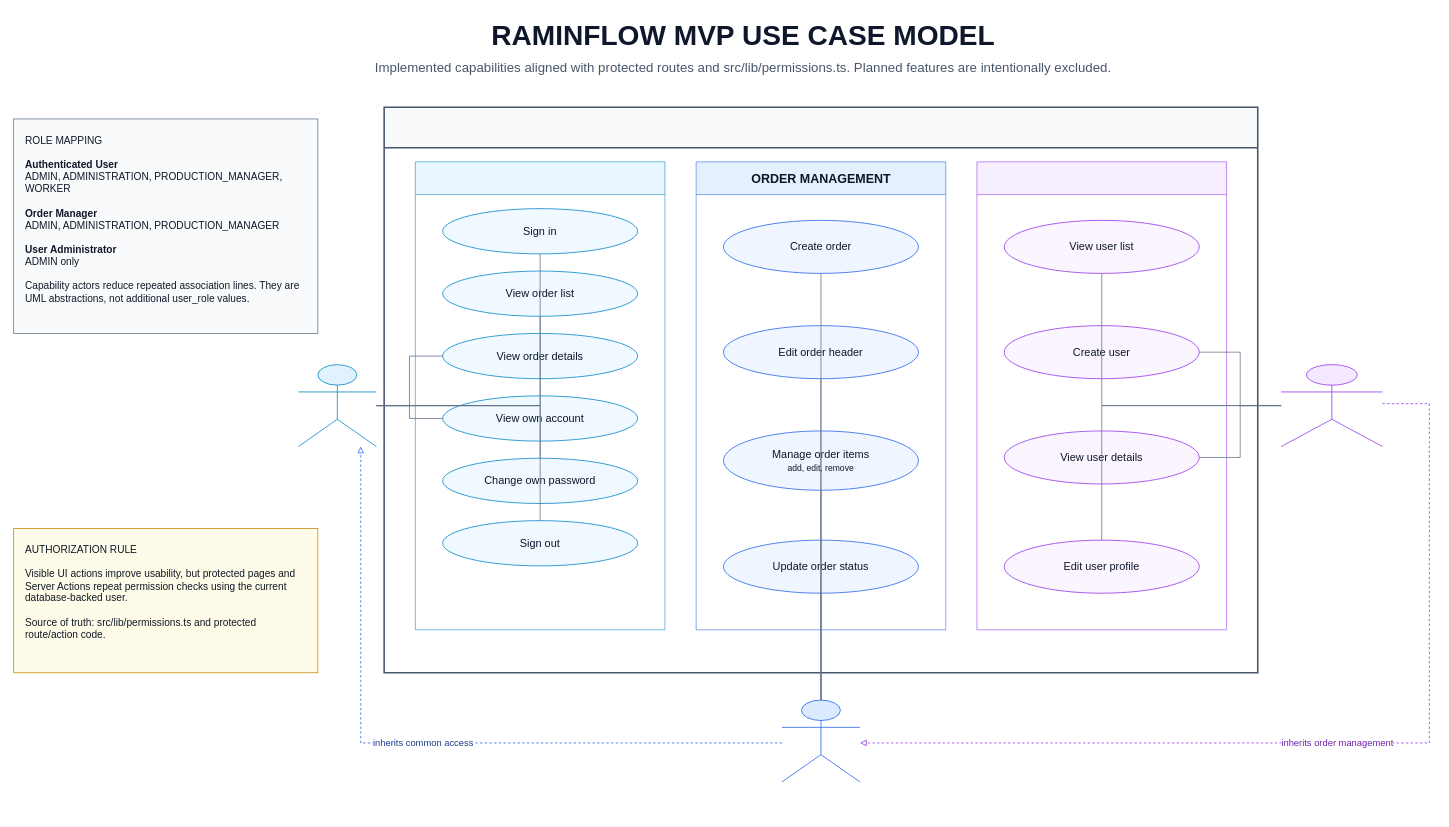
The diagram is 1449 pixels wide and 827 high, and some of its shapes have lost their labels. The box of each missing label's shape, as (x1, y1, x2, y2) in pixels:
Authenticated User <<capability actor>>: (298, 364, 376, 447)
COMMON ACCESS: (415, 161, 665, 630)
Order Manager <<capability actor>>: (781, 699, 860, 782)
RAMINFLOW SYSTEM BOUNDARY: (383, 106, 1258, 673)
USER ADMINISTRATION: (976, 161, 1227, 630)
User Administrator <<capability actor>>: (1280, 364, 1383, 447)
